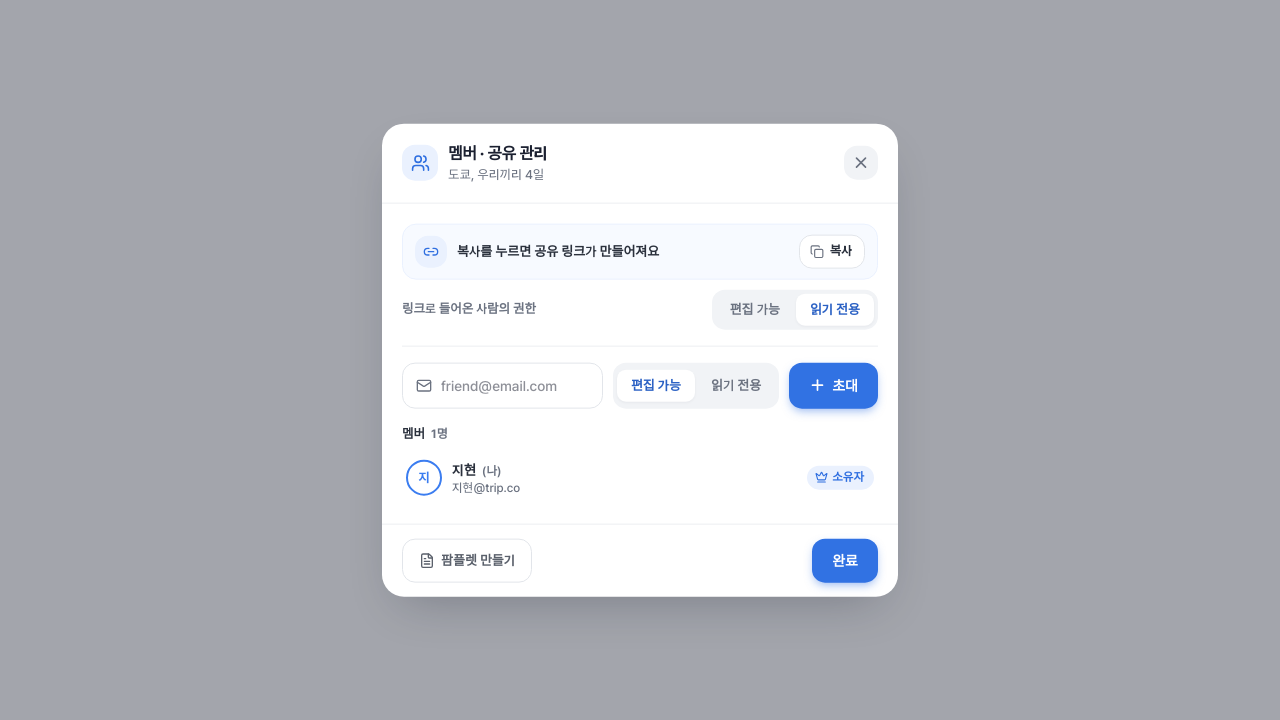
Scenario: ShareOverlay 링크 복사 › '복사' 클릭 → 공유 링크를 클립보드에 복사하고 '복사됨' 피드백
Step 1. Click the button "복사" → [832, 251], box [799,234,865,268]
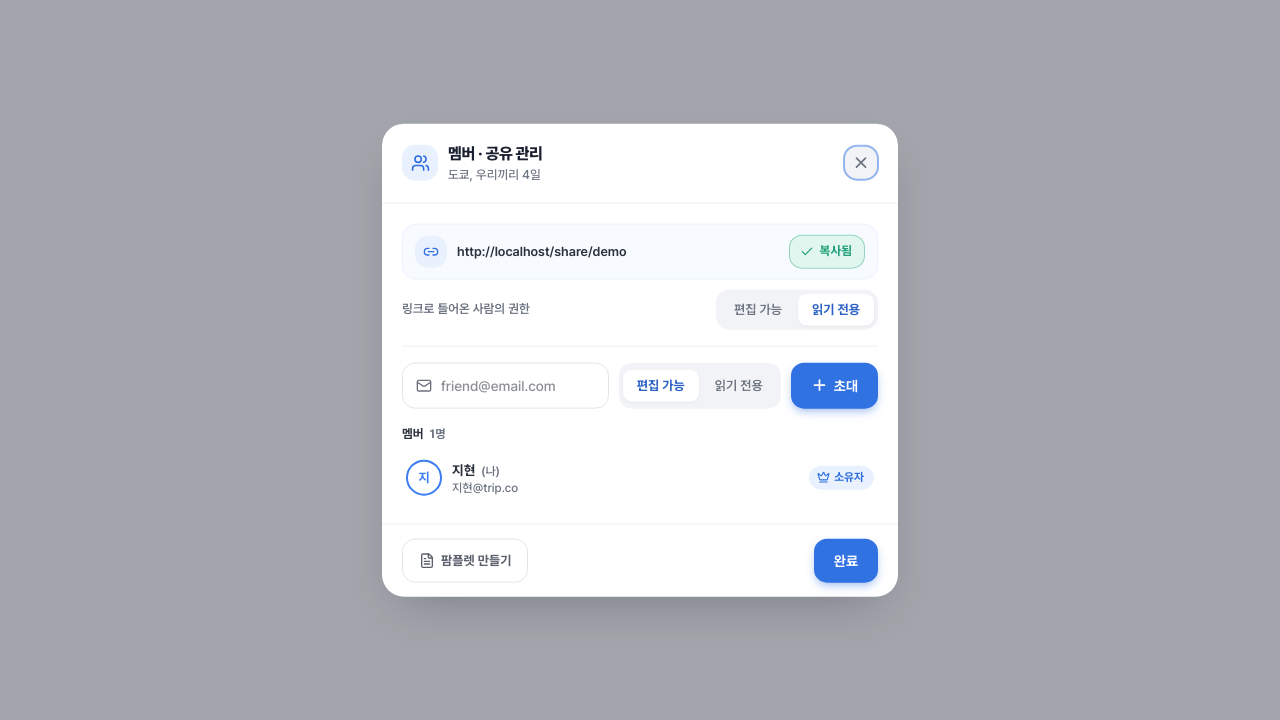
Now the button "복사됨" is shown, box [789,234,865,268]
